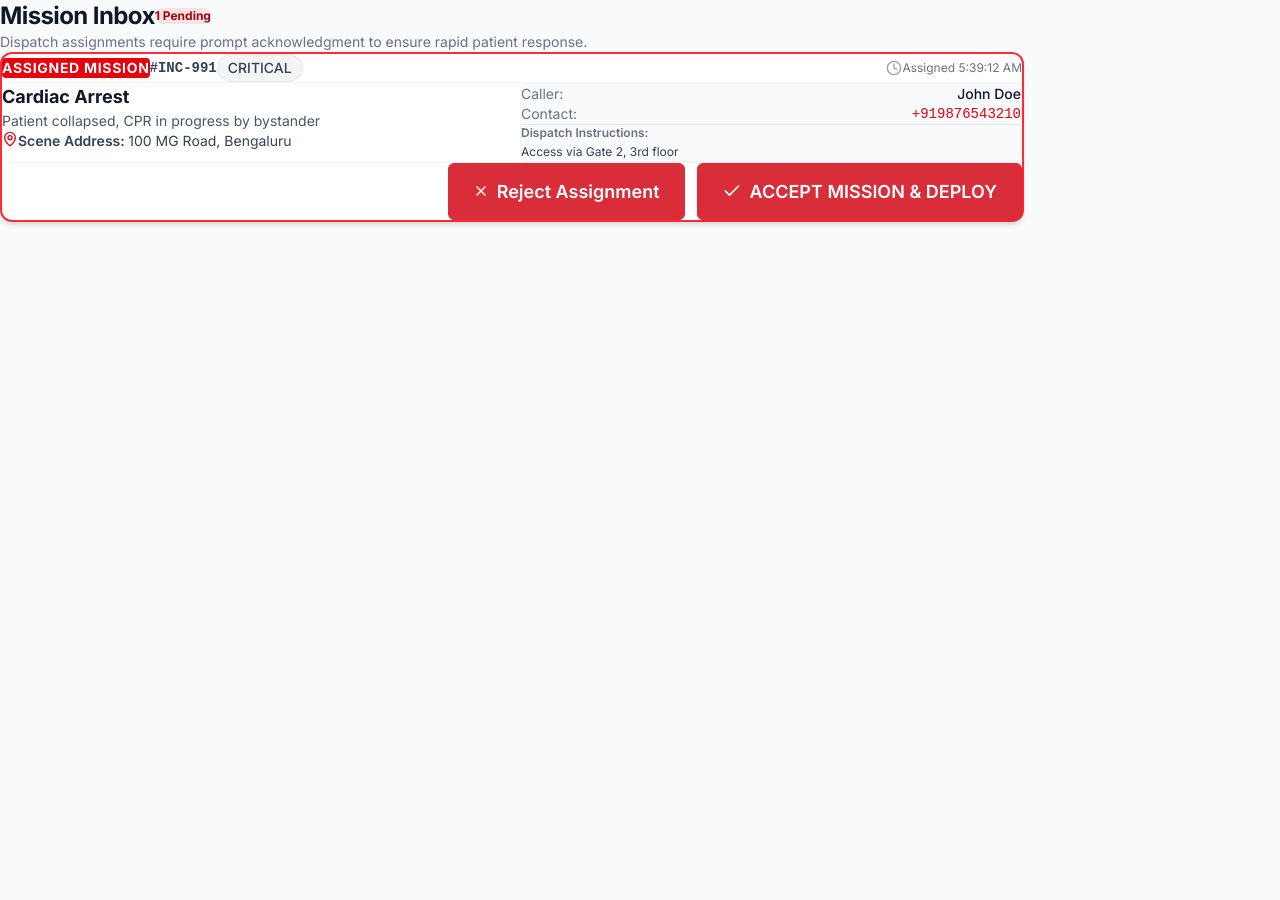
Test: Responder Operations & Field Contracts Suite › 1. Mission Inbox & Assignment Workflow › opens reject modal and submits rejection with selected reason
Later steps or results of the test are not shown.
Click the button "Reject Assignment" at (566, 191), box [448,162,684,220]
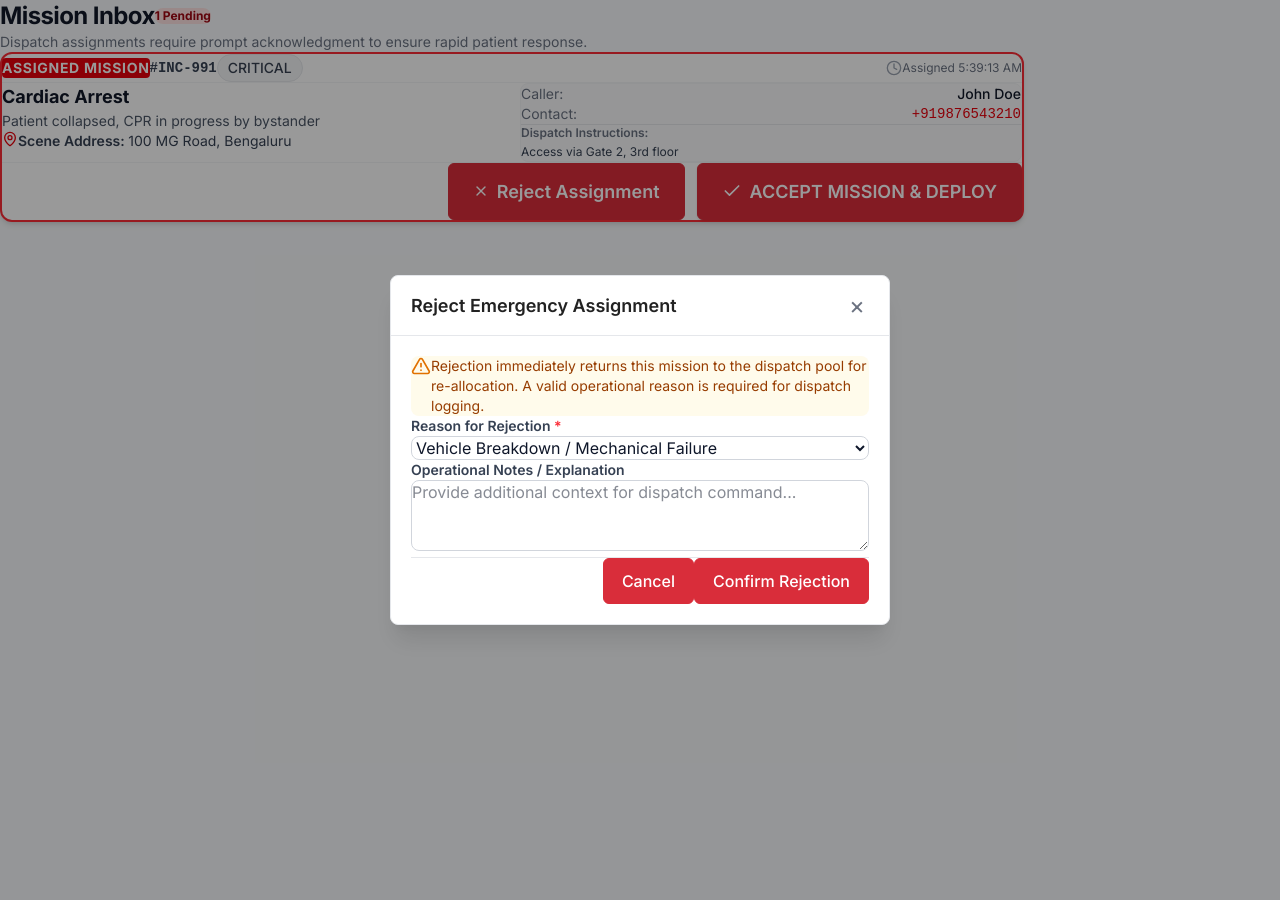
Check: the heading "Reject Emergency Assignment" is shown, box [411,292,676,319]
Check: the text "Rejection immediately returns this mission to the dispatch pool" is shown, box [431,357,866,414]
